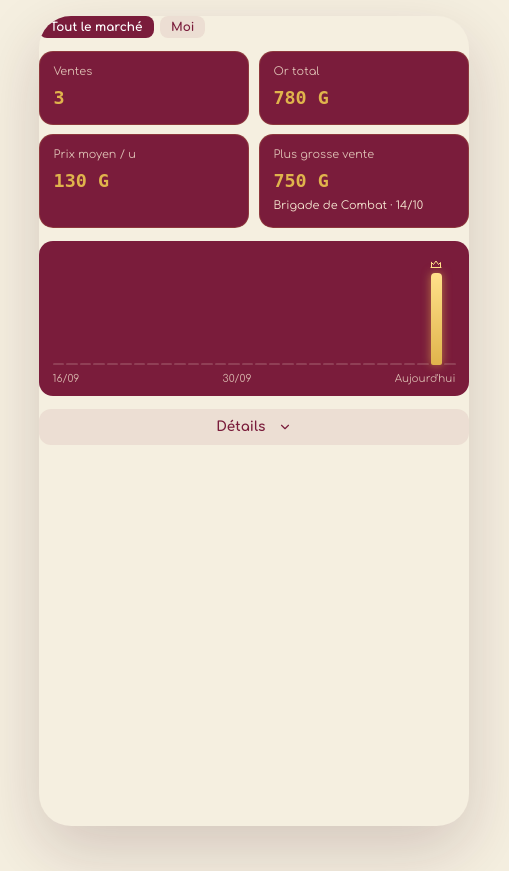
SalesHistory › affiche une erreur, pas le message vide, quand la liste échoue
Click the button "Détails": point(254, 427) [39,409,469,445]
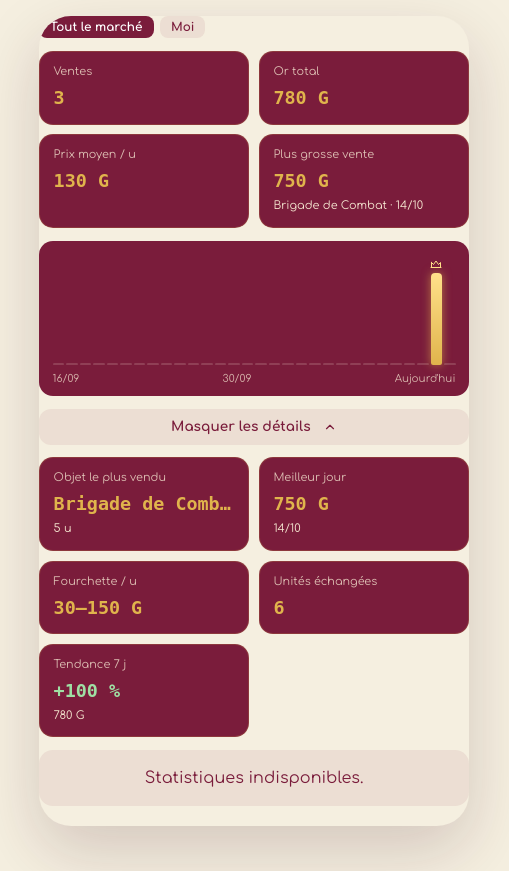
Now the message shows "Statistiques indisponibles", box [145,769,363,787]
